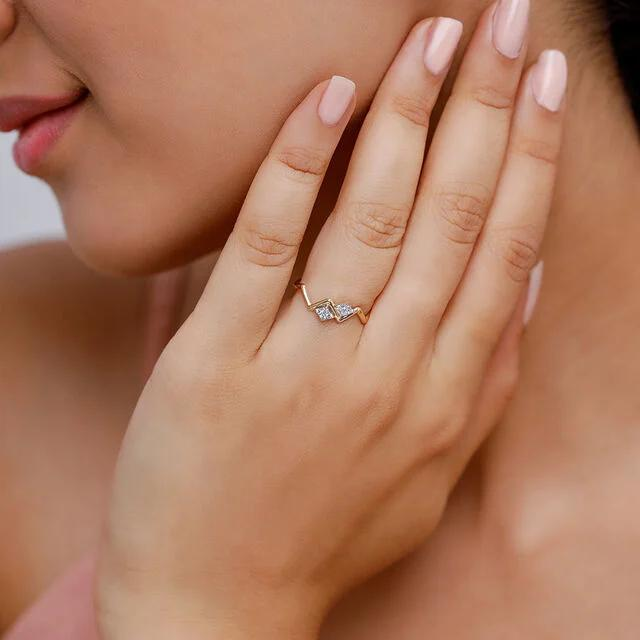Ring: (283, 259, 388, 341)
